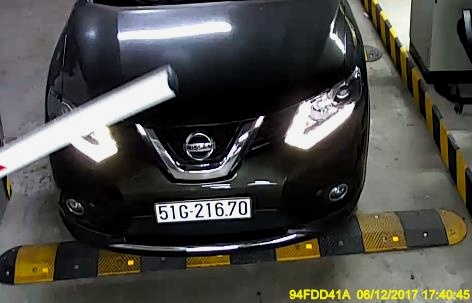plate: (151, 194, 252, 224)
